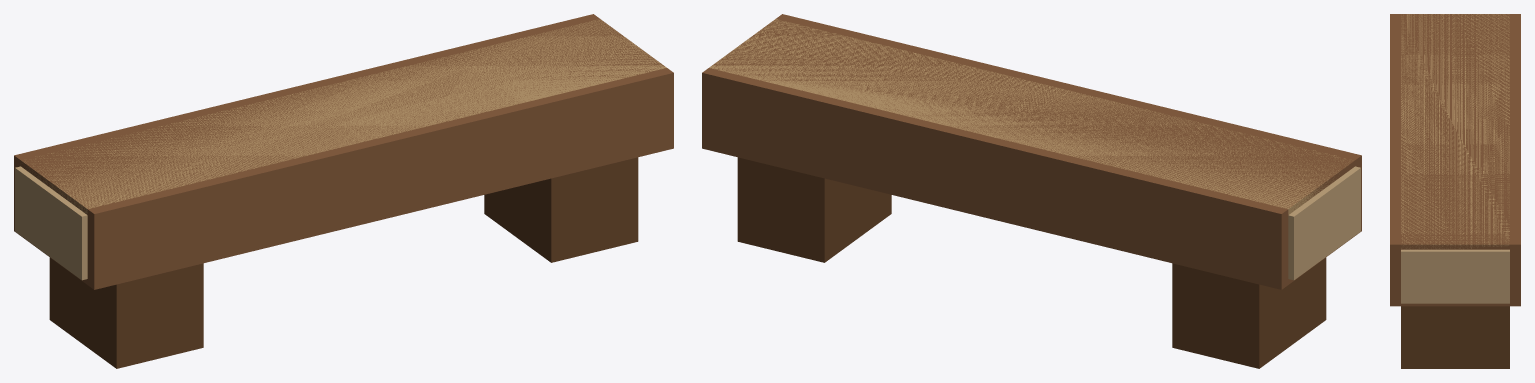
File: kr-log-bench.glb
3 renders of one model, left to right at view 1: azimuth 30°, elevation 25°; view 2: azimuth 150°, elevation 25°; view 3: azimuth 270°, elevation 25°, orthographic. The views are drawn at different scales.
Parts seen in each view (by area): view 1: box-prop; view 2: box-prop; view 3: box-prop.
Boxes of the visible parts, <box> form: box-prop: <box>14,14,673,368</box>; box-prop: <box>702,14,1361,368</box>; box-prop: <box>1390,14,1520,368</box>.
Bounding box in the file's own units: 2.04 × 0.55 × 0.48.
